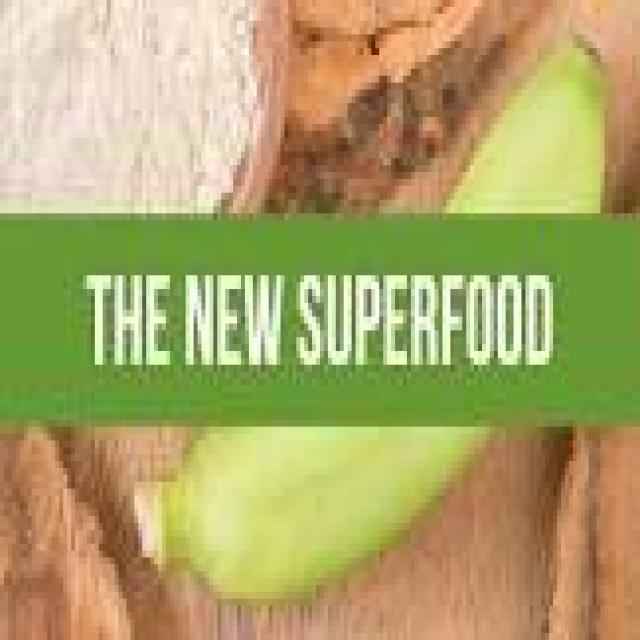banana: (135, 427, 489, 598)
